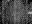person: (26, 11, 31, 15)
